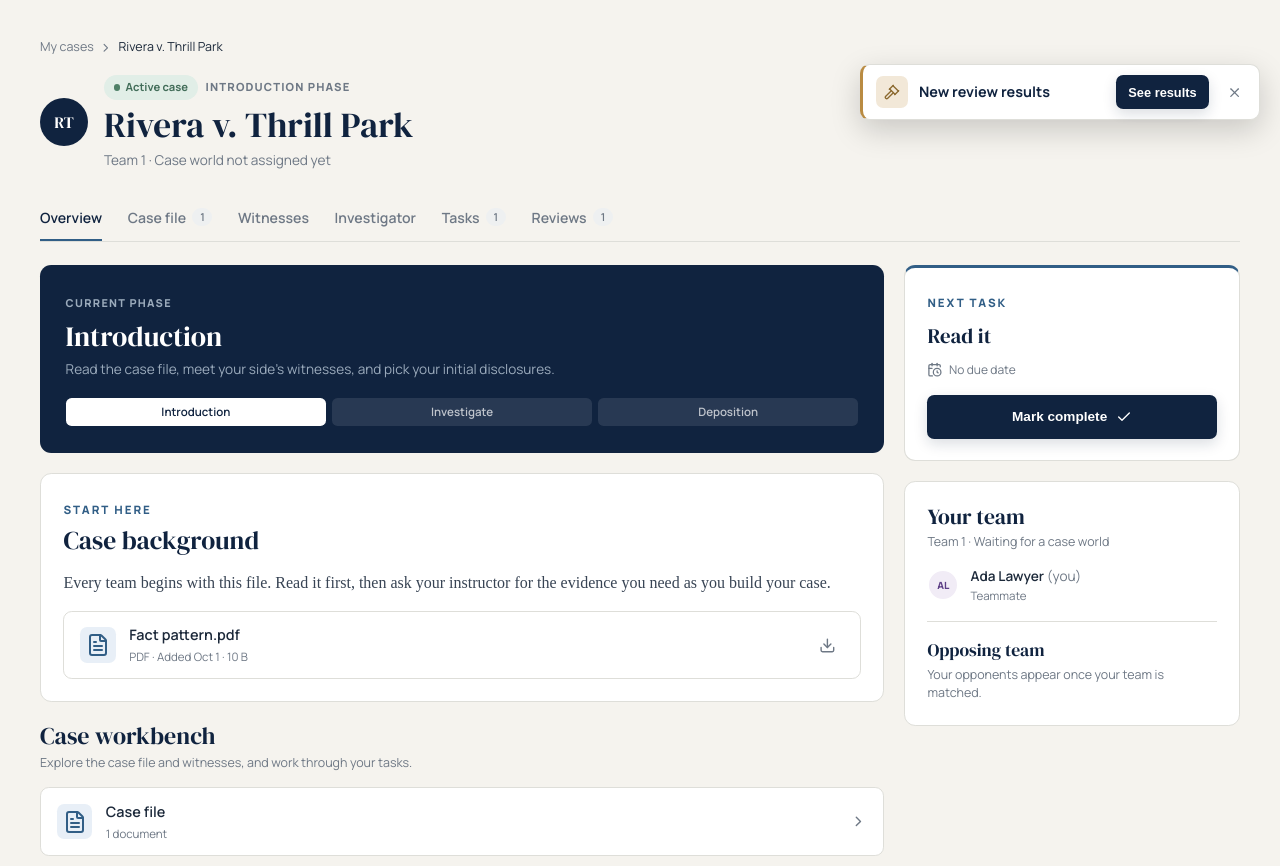
StudentCasePage: review results › flags new results, and marks them read when the team opens them
Check: the text "New review results" is shown, box [919,82,1050,101]
Check: the tab with aria-label "Reviews, 1" is shown, box [532,196,613,241]
Click the button "See results" at (1162, 92), box [1116,75,1209,109]
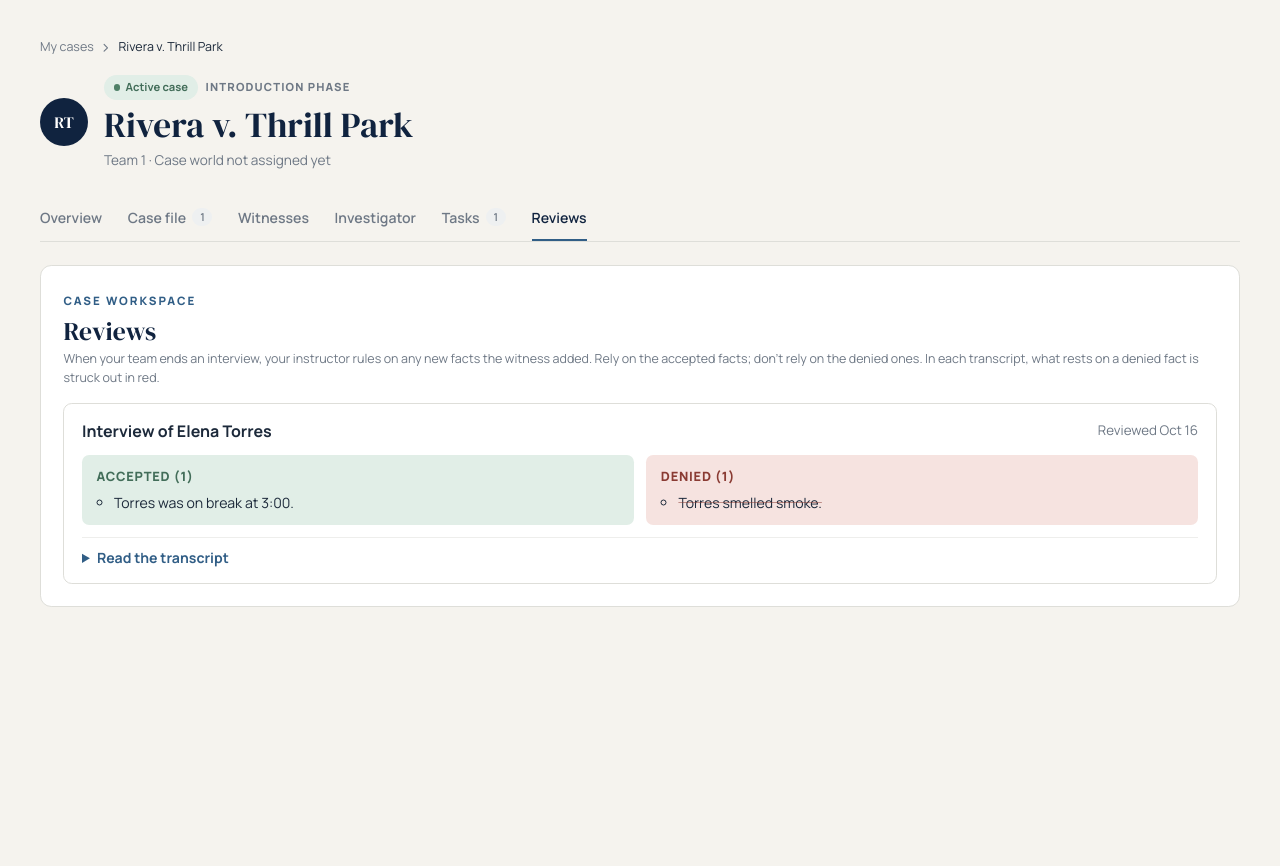
Check: the list named "Accepted" reads "Torres was on break at 3:00.", box [114,493,294,512]
Check: the list named "Denied" reads "Torres smelled smoke.", box [678,493,822,512]
Check: the text "New review results" is gone
